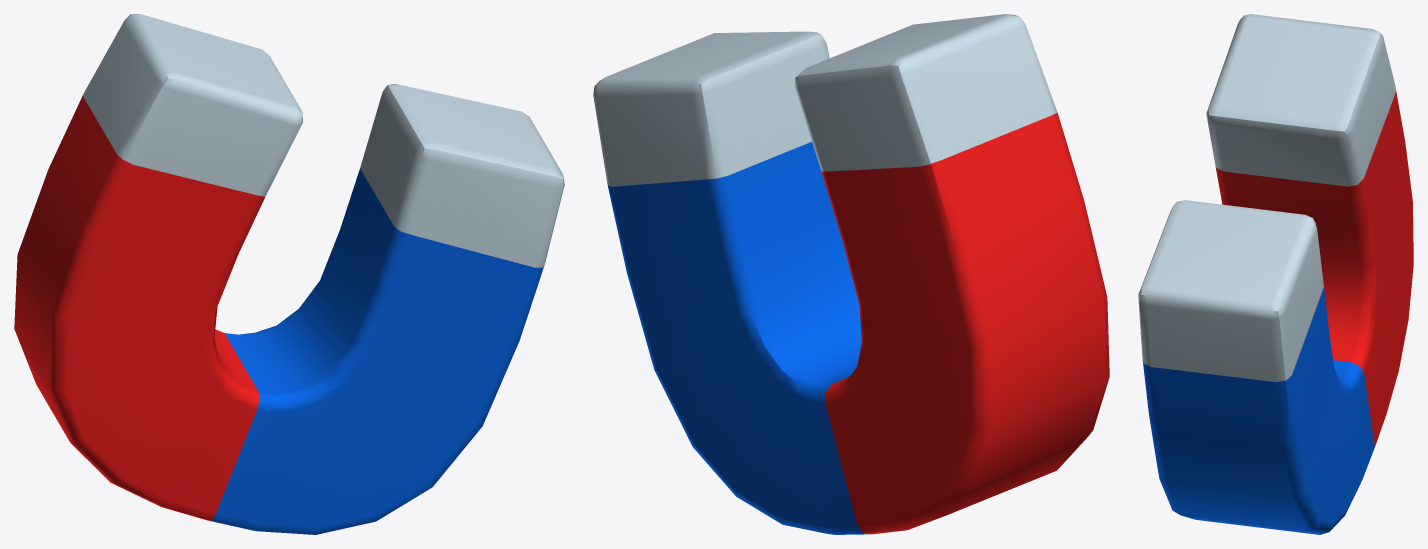
The picture shows the model from 3 angles, left to right: view 1: azimuth 30°, elevation 25°; view 2: azimuth 150°, elevation 25°; view 3: azimuth 270°, elevation 25°; orthographic projection. The views are drawn at different scales.
Visible parts, largest first — view 1: model_0.044; view 2: model_0.044; view 3: model_0.044.
Part boxes in pixels (box(x1,y1,x2,y2)): model_0.044: box(14, 14, 564, 534); model_0.044: box(593, 14, 1109, 534); model_0.044: box(1138, 14, 1413, 534).
Bounding box in the file's own units: 3.89 × 3.72 × 2.15.
